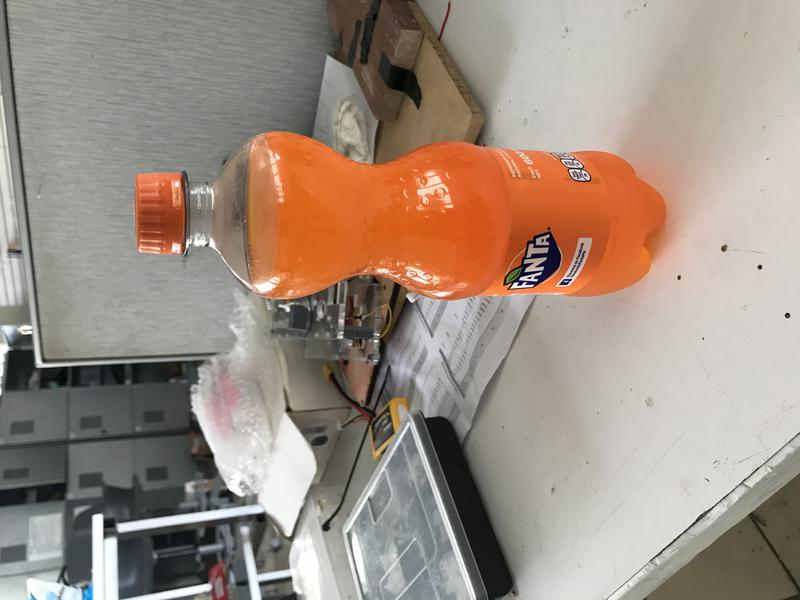fanta: (133, 129, 668, 301)
